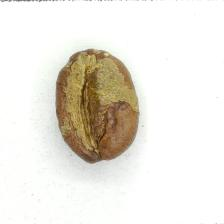NG: (61, 52, 136, 153)
